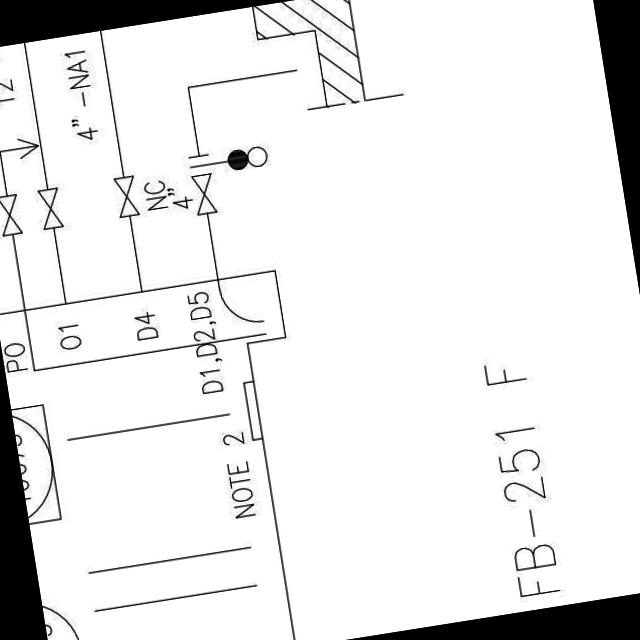GV: (33, 183, 66, 235), (109, 171, 142, 223), (186, 170, 218, 221), (0, 188, 26, 240)
